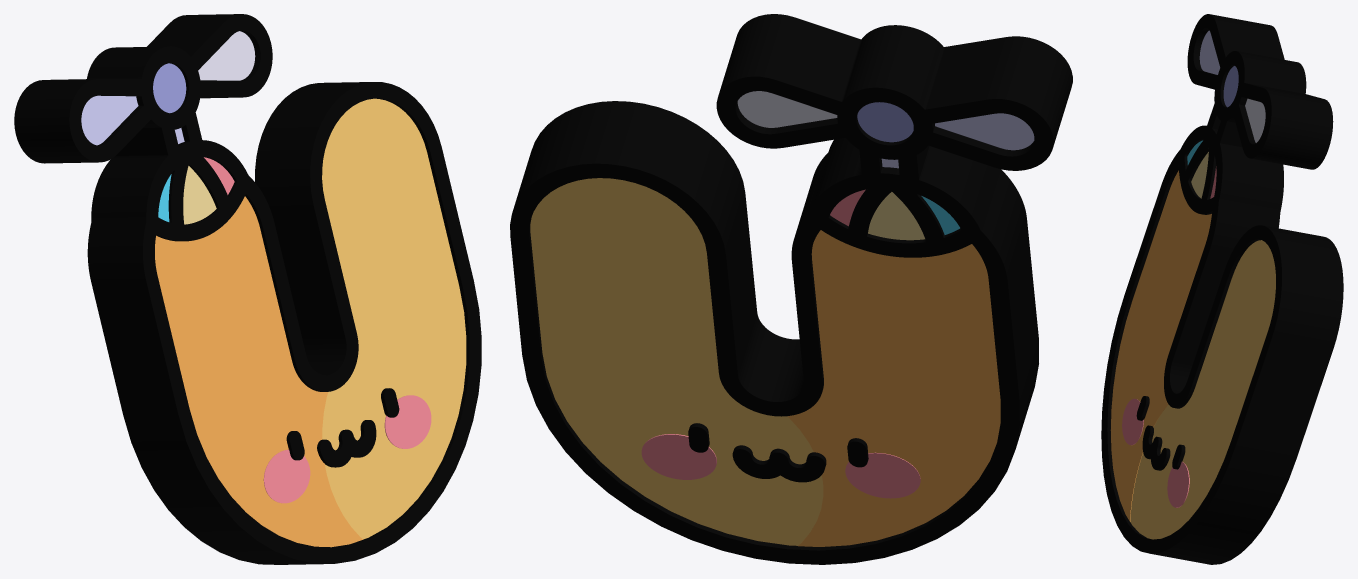
File: Letra_u.glb
The picture shows the model from 3 angles, left to right: view 1: azimuth 30°, elevation 25°; view 2: azimuth 150°, elevation 25°; view 3: azimuth 270°, elevation 25°; orthographic projection. The views are drawn at different scales.
Parts seen in each view (by area): view 1: Curve.011, Curve, Curve.001, Curve.006, Curve.005, Curve.002, Curve.003, Curve.014, Curve.007, Curve.008; view 2: Curve.011, Curve, Curve.001, Curve.003, Curve.002, Curve.006, Curve.005, Curve.014, Curve.007, Curve.008; view 3: Curve.011, Curve, Curve.001, Curve.003, Curve.014, Curve.002, Curve.006, Curve.005, Curve.007, Curve.008.
Part boxes in pixels (<box>): Curve.011: <box>14,14,481,564</box>; Curve: <box>322,98,466,539</box>; Curve.001: <box>155,196,362,547</box>; Curve.006: <box>198,31,255,80</box>; Curve.005: <box>81,95,138,145</box>; Curve.002: <box>263,449,310,503</box>; Curve.003: <box>384,395,431,448</box>; Curve.014: <box>317,420,376,467</box>; Curve.007: <box>153,63,186,113</box>; Curve.008: <box>183,166,216,224</box>; Curve.011: <box>510,14,1072,564</box>; Curve: <box>530,178,823,545</box>; Curve.001: <box>787,230,1000,546</box>; Curve.003: <box>641,434,716,479</box>; Curve.002: <box>845,452,920,498</box>; Curve.006: <box>737,91,837,127</box>; Curve.005: <box>935,113,1034,150</box>; Curve.014: <box>732,445,826,482</box>; Curve.007: <box>857,102,913,142</box>; Curve.008: <box>868,192,924,240</box>; Curve.011: <box>1101,14,1343,564</box>; Curve: <box>1130,240,1275,539</box>; Curve.001: <box>1110,170,1211,521</box>; Curve.003: <box>1167,462,1189,507</box>; Curve.014: <box>1142,425,1170,470</box>; Curve.002: <box>1122,398,1143,445</box>; Curve.006: <box>1245,98,1265,142</box>; Curve.005: <box>1199,30,1220,74</box>; Curve.007: <box>1223,66,1238,107</box>; Curve.008: <box>1191,152,1208,198</box>.
Size of the model in its own units: 0.1311 by 0.1436 by 0.0714.
